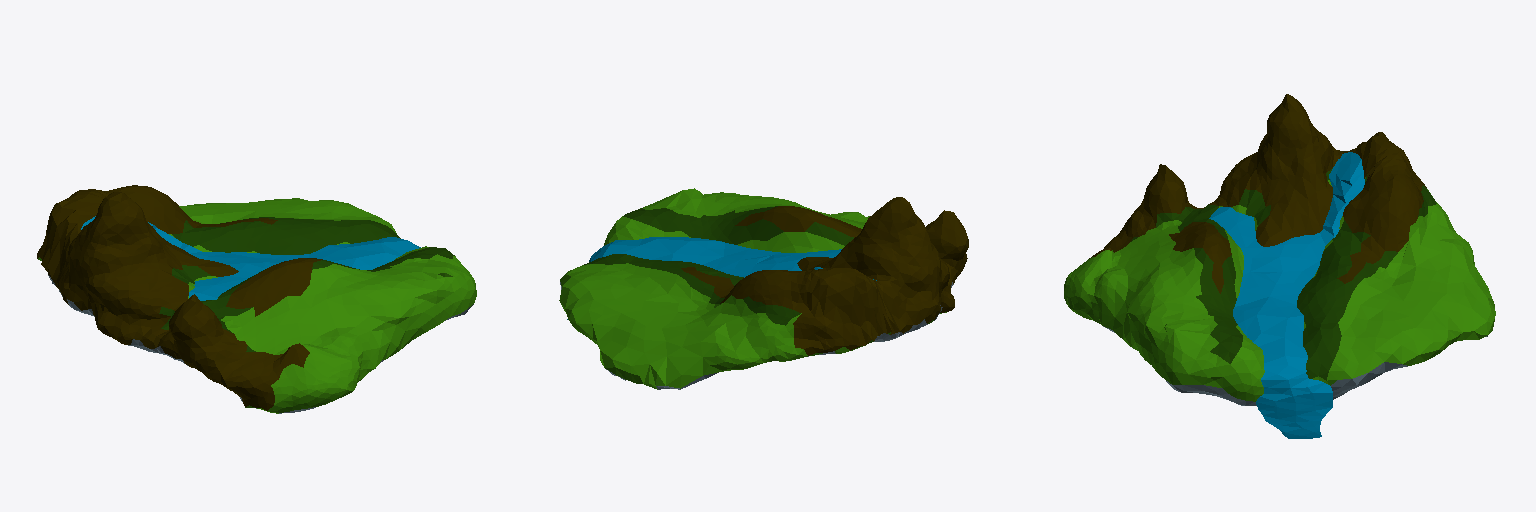
The model's file is river.obj.
3 renders of one model, left to right at view 1: azimuth 30°, elevation 25°; view 2: azimuth 150°, elevation 25°; view 3: azimuth 270°, elevation 25°, orthographic.
Parts seen in each view (by area): view 1: Icosphere.001, Plane; view 2: Icosphere.001, Plane; view 3: Icosphere.001, Plane.
Boxes of the visible parts, x1,y1,x2,y2 form: Icosphere.001: [37, 185, 476, 413]; Plane: [81, 216, 420, 300]; Icosphere.001: [559, 188, 968, 389]; Plane: [567, 237, 876, 319]; Icosphere.001: [1064, 94, 1495, 405]; Plane: [1209, 152, 1364, 438].
Bounding box in the file's own units: 8.96 × 4.5 × 9.26.